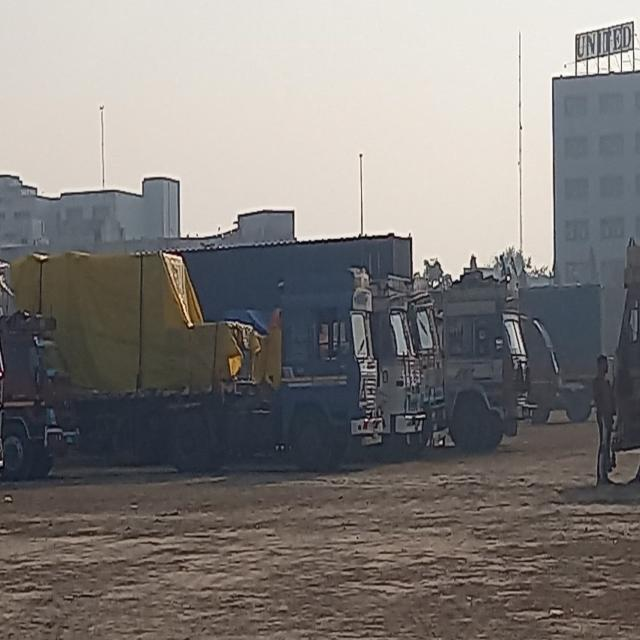covered: (9, 232, 274, 454)
